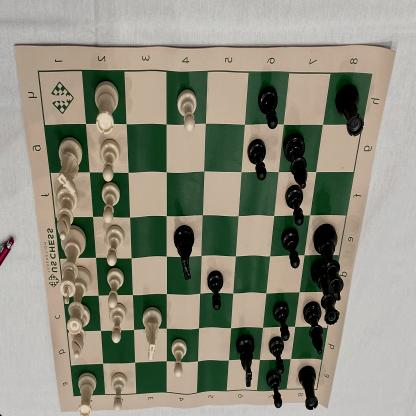black-bishop: (335, 85, 365, 137), (283, 134, 307, 188), (303, 301, 322, 355), (298, 366, 318, 412)
black-king: (313, 223, 343, 302)
black-knight: (173, 225, 196, 281), (236, 334, 255, 390)
black-pawn: (247, 138, 268, 182), (258, 86, 279, 130), (284, 184, 306, 225), (282, 227, 301, 271), (273, 301, 291, 342), (206, 272, 224, 312), (269, 336, 286, 375), (266, 372, 283, 410)
black-queen: (312, 258, 340, 326)
white-bishop: (55, 184, 79, 240), (70, 304, 91, 359)
white-king: (59, 223, 87, 304)
white-knight: (55, 137, 84, 194), (142, 307, 162, 362)
white-pawn: (97, 138, 121, 181), (102, 225, 126, 267), (176, 86, 198, 131), (98, 180, 121, 223), (105, 267, 125, 308), (108, 303, 127, 344), (110, 370, 128, 413), (170, 338, 188, 378)
white-queen: (66, 265, 92, 336)
white-rook: (94, 80, 119, 134), (77, 373, 97, 416)
